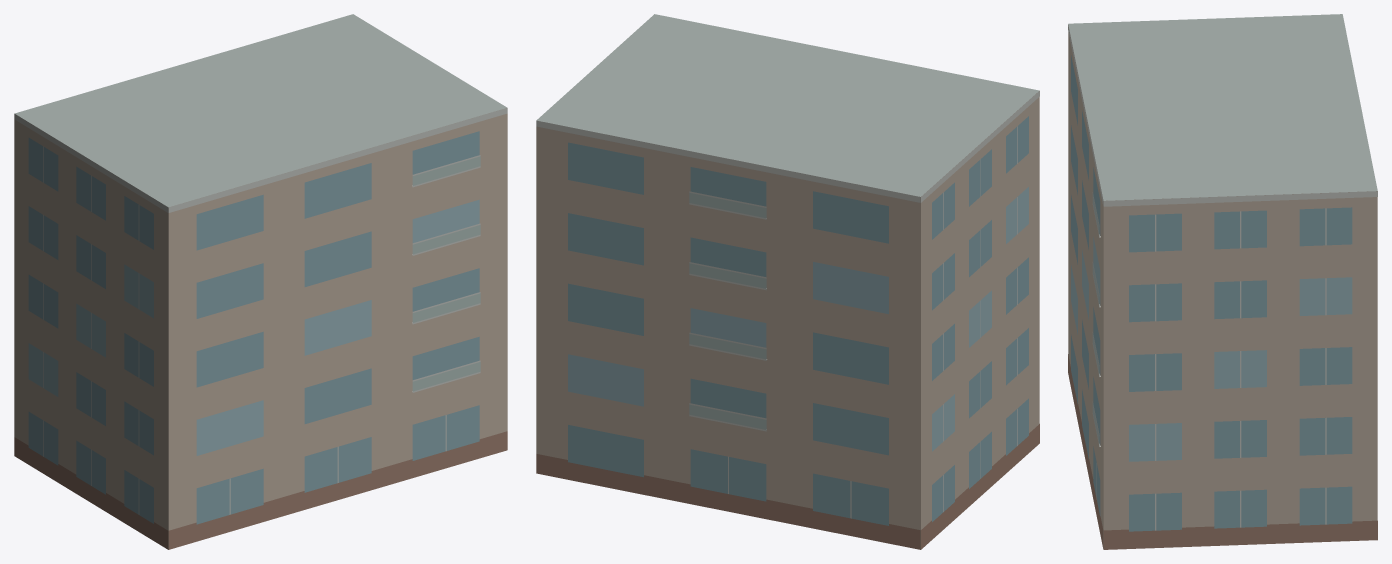
File: survey-upis-32727673.glb
3 views of the same model, side by side, from view 1: azimuth 30°, elevation 25°; view 2: azimuth 150°, elevation 25°; view 3: azimuth 270°, elevation 25° (orthographic). The views are drawn at different scales.
Parts seen in each view (by area): view 1: survey-upis-32727673.tmp; view 2: survey-upis-32727673.tmp; view 3: survey-upis-32727673.tmp.
Part boxes in pixels (box(x1,y1,x2,y2)): survey-upis-32727673.tmp: box(14, 14, 507, 549); survey-upis-32727673.tmp: box(536, 14, 1039, 549); survey-upis-32727673.tmp: box(1068, 14, 1377, 549).
Bounding box in the file's own units: 16.53 × 14.39 × 11.58.
